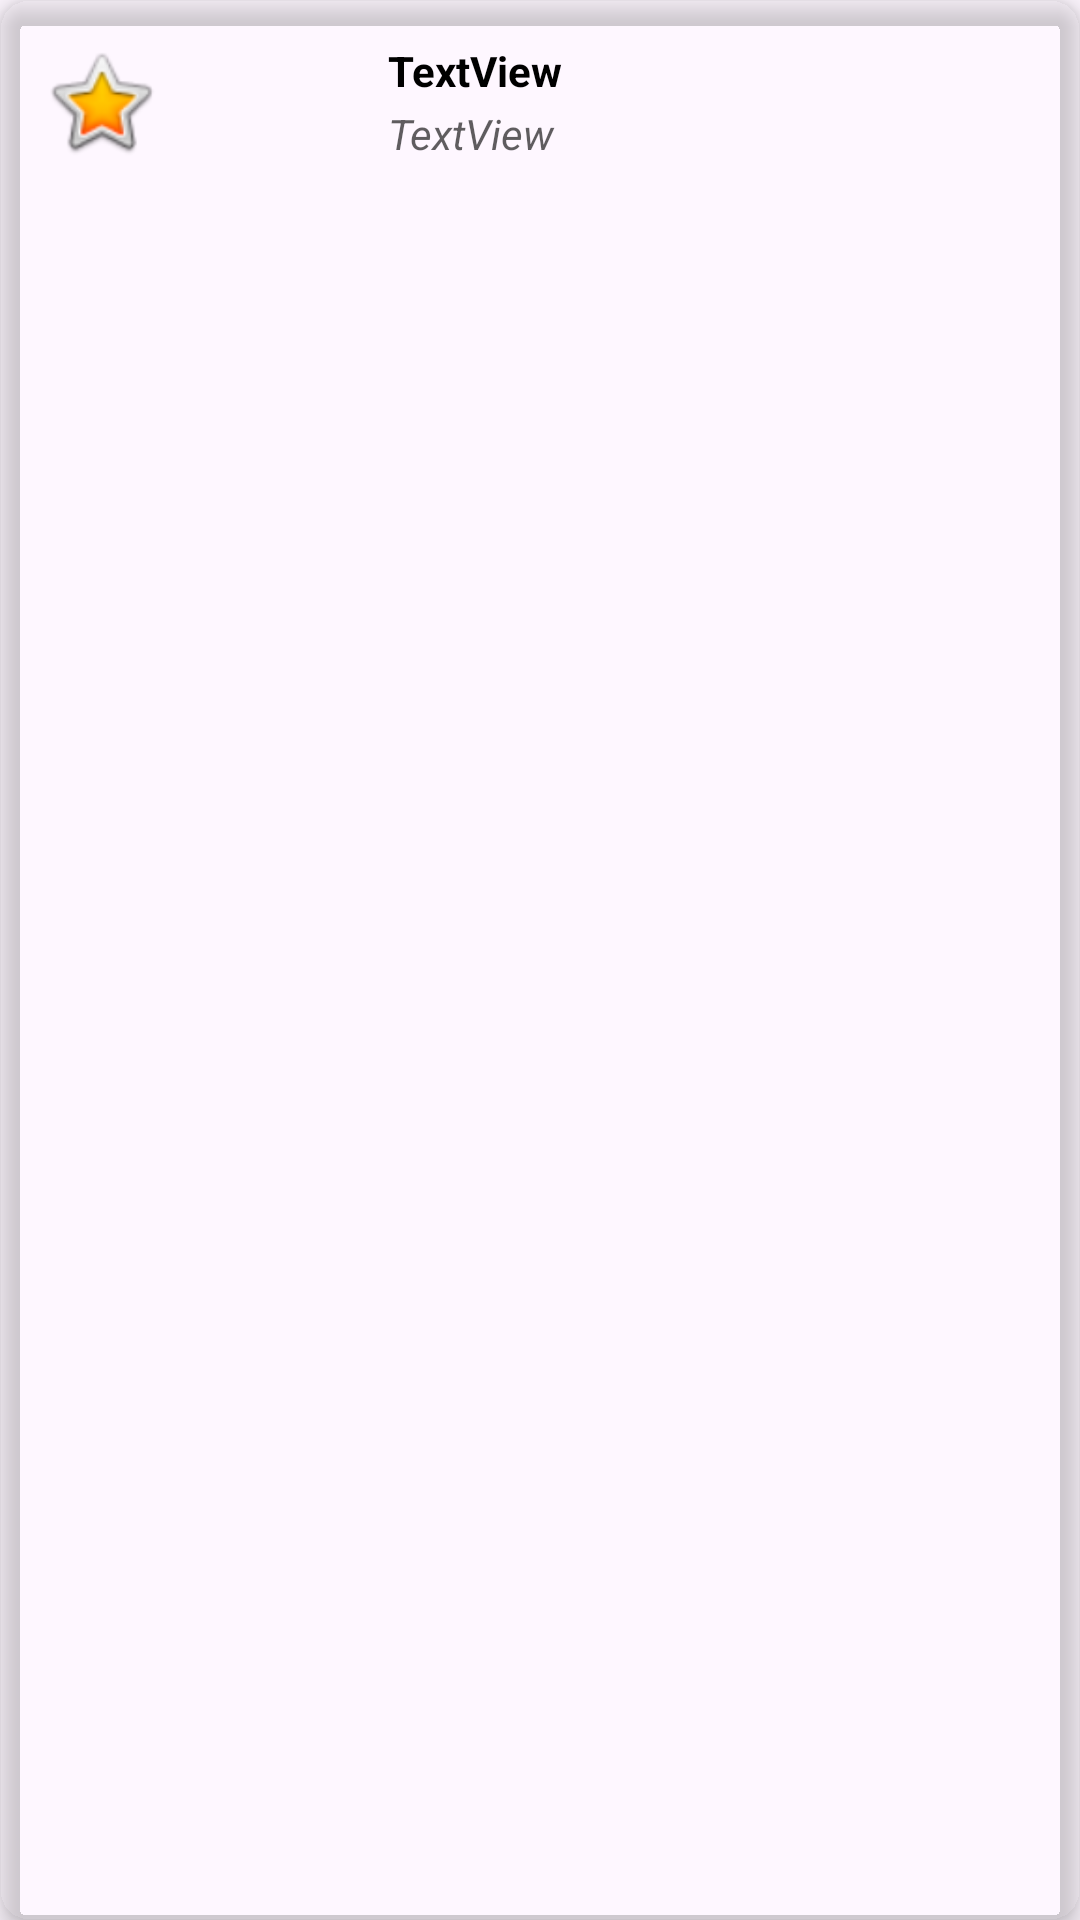

Screen size 1080×1920. Icon name, then its box in pixels as [x1,y1,x2,y2]:
star on: [52,54,152,152]
